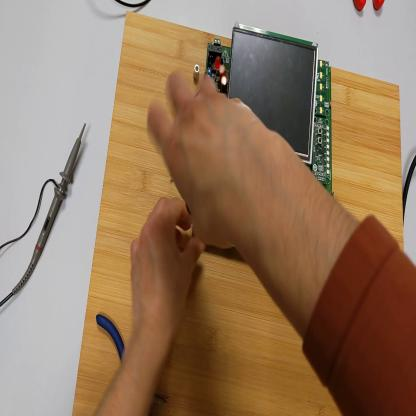hand: (151, 70, 277, 247), (128, 196, 205, 339)
low voltage board: (192, 23, 332, 243)
oscilloscope probe tip: (12, 123, 88, 295)
pliers: (95, 314, 168, 402), (354, 1, 387, 14)
working area: (74, 13, 405, 416)
